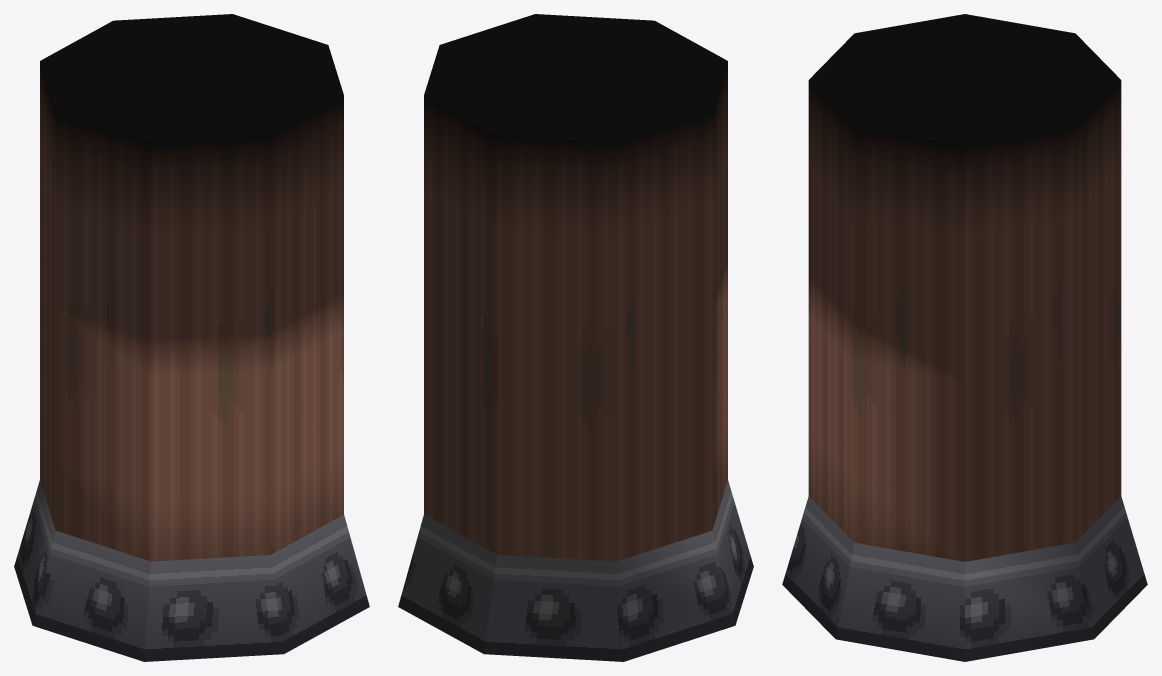
The picture shows the model from 3 angles, left to right: view 1: azimuth 30°, elevation 25°; view 2: azimuth 150°, elevation 25°; view 3: azimuth 270°, elevation 25°; orthographic projection.
Bounding box in the file's own units: 3.2 × 4.88 × 3.2.
3 materials, 2 textured.
